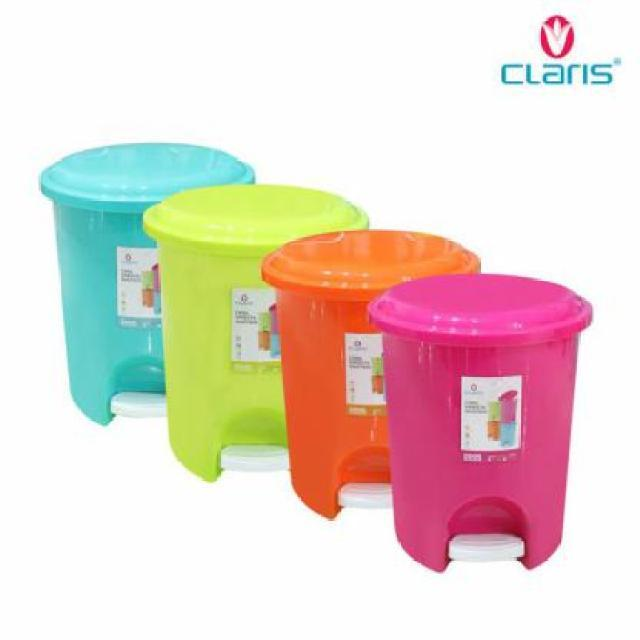garbage container: (363, 269, 602, 598), (136, 186, 262, 509), (34, 138, 163, 443), (260, 228, 391, 523)
